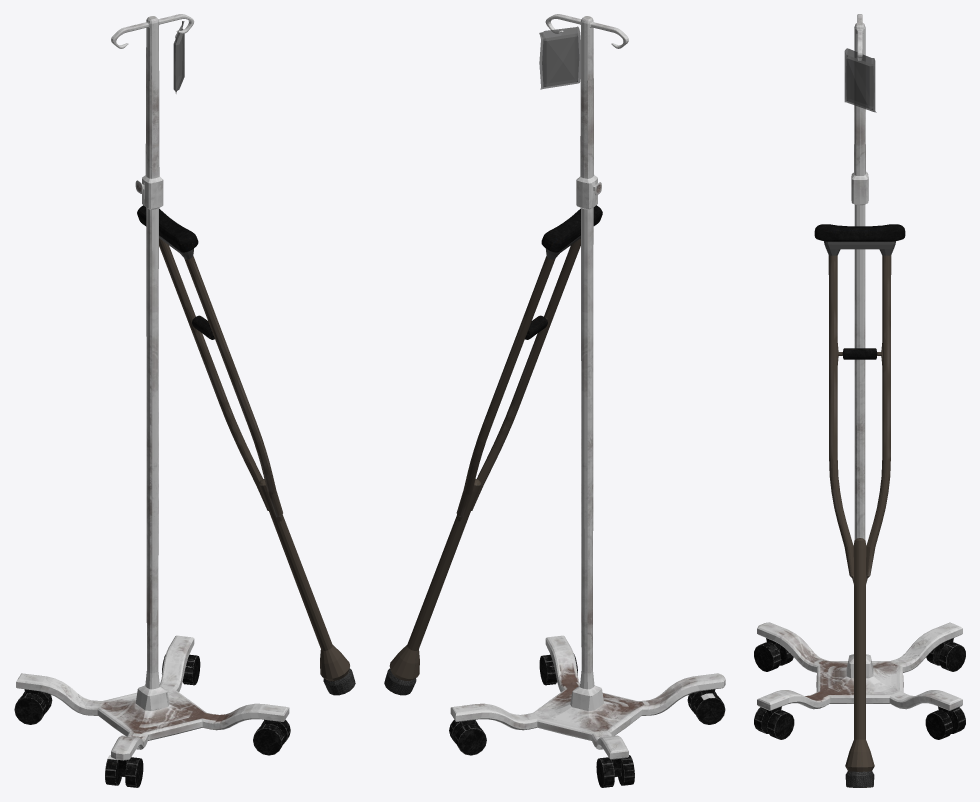
File: iv_drip.glb
The picture shows the model from 3 angles, left to right: view 1: azimuth 30°, elevation 25°; view 2: azimuth 150°, elevation 25°; view 3: azimuth 270°, elevation 25°; orthographic projection. The views are drawn at different scales.
Parts seen in each view (by area): view 1: IV Drip, Crutch; view 2: IV Drip, Crutch; view 3: IV Drip, Crutch.
Part boxes in pixels (x1,y1,x2,y2): IV Drip: (14,14,290,787); Crutch: (137,205,355,695); IV Drip: (449,14,725,787); Crutch: (384,205,602,695); IV Drip: (754,14,965,739); Crutch: (814,224,905,787).
Bounding box in the file's own units: 171 × 401 × 113.
3 materials, 3 textured.
